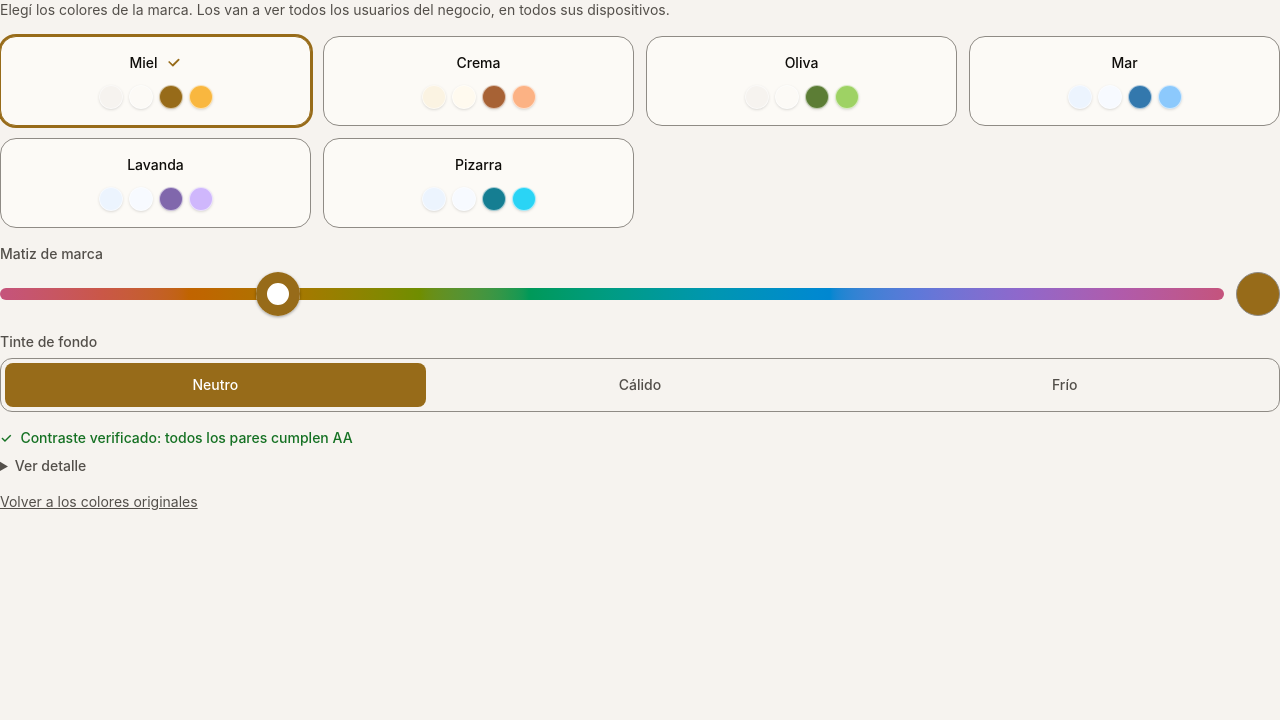
SeccionColoresNegocio › restablecer sin conexión: dispara la escritura sin esperar y avisa con un toast informativo
Click the button "Volver a los colores originales".
click(99, 502)  # box [0,492,198,512]
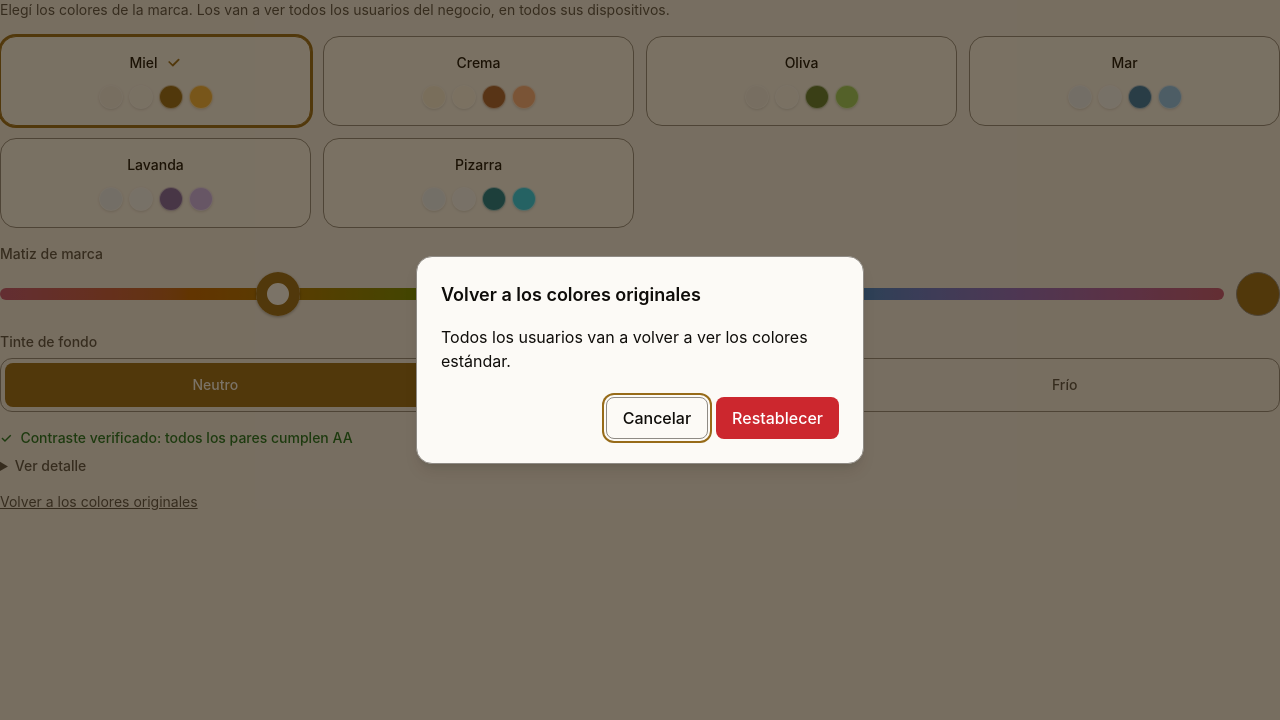
Click the button "Restablecer".
click(778, 418)  # box [716,397,839,439]
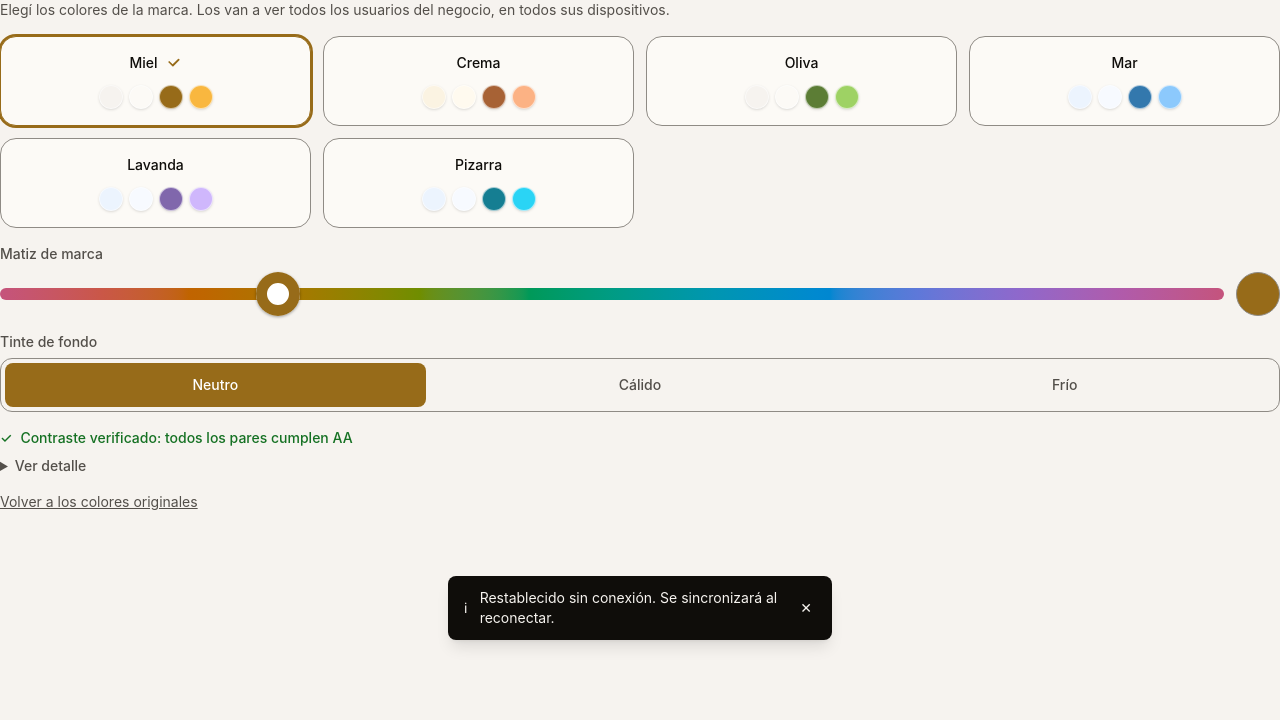
Now the text "Restablecido sin conexión. Se sincronizará al reconectar." is shown, box [480,588,784,628]
